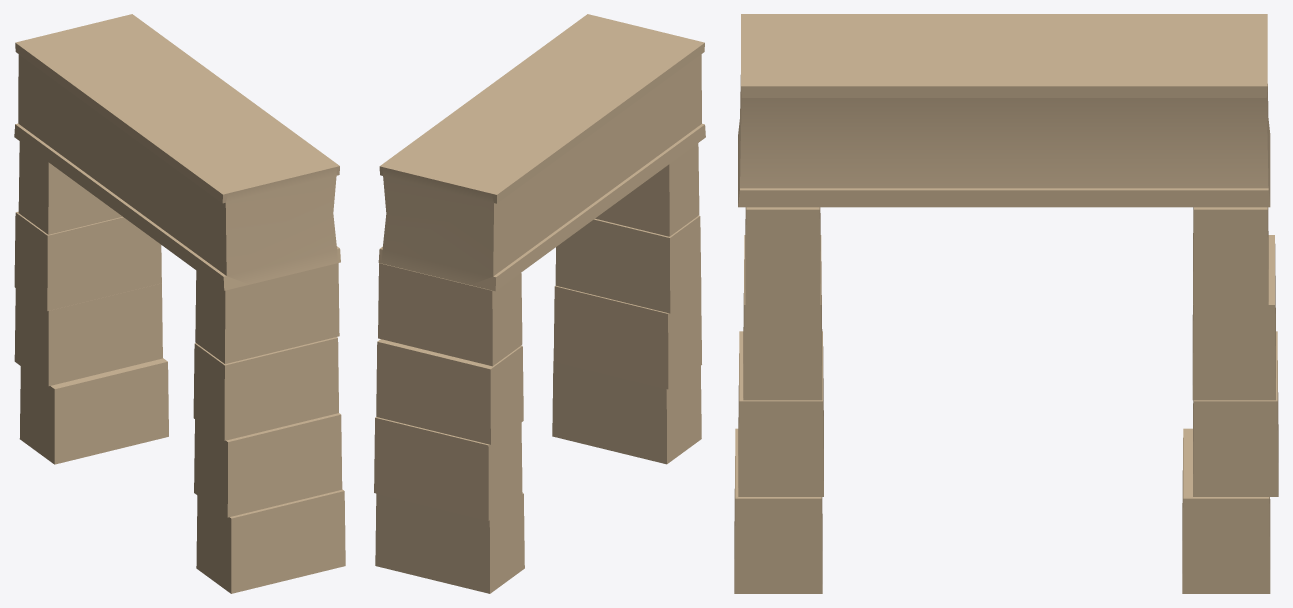
The model's file is egypt_wallgateway.fbx.
3 views of the same model, side by side, from view 1: azimuth 30°, elevation 25°; view 2: azimuth 150°, elevation 25°; view 3: azimuth 270°, elevation 25° (orthographic). The views are drawn at different scales.
Parts seen in each view (by area): view 1: wallgateway1; view 2: wallgateway1; view 3: wallgateway1.
Part boxes in pixels (box(x1,y1,x2,y2)): wallgateway1: box(14, 14, 345, 593); wallgateway1: box(374, 14, 705, 593); wallgateway1: box(734, 14, 1278, 593).
Size of the model in its own units: 2.24 by 7.09 by 6.92.
